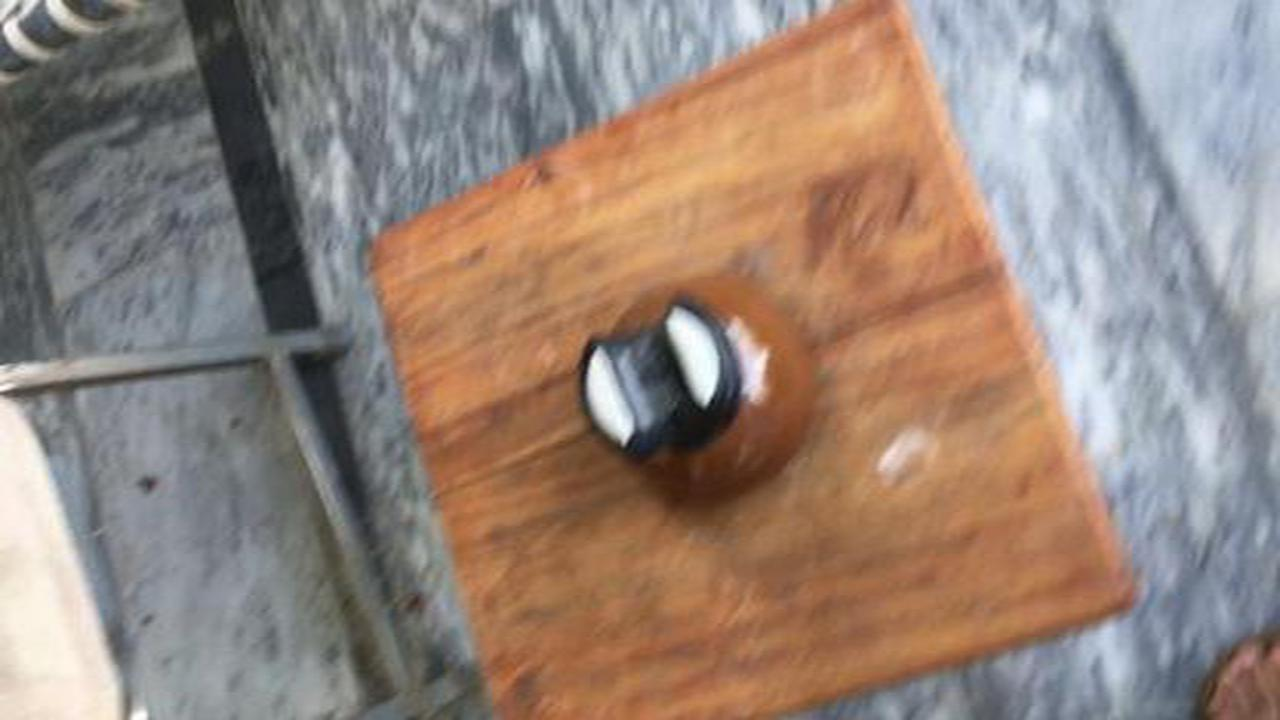insulator_pin: (557, 274, 841, 521)
